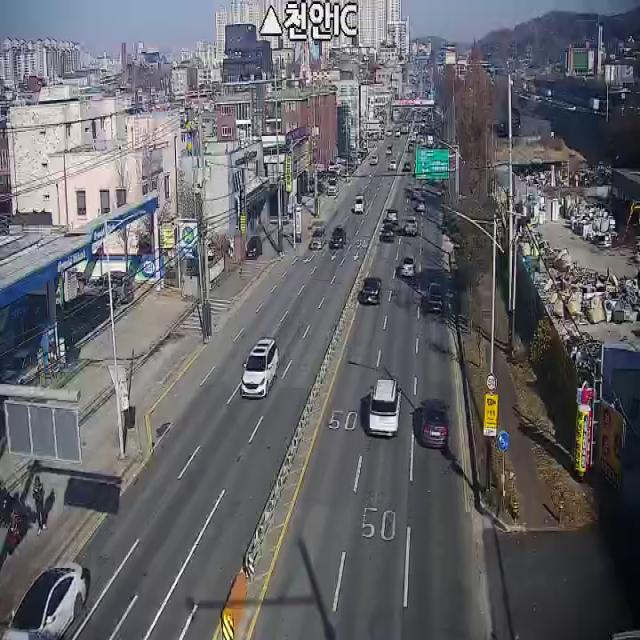Car: (2, 561, 86, 640), (241, 337, 279, 398), (370, 379, 400, 436), (419, 398, 450, 448), (95, 270, 134, 304), (362, 276, 381, 304), (426, 282, 442, 312), (246, 236, 262, 258), (310, 228, 326, 249), (330, 228, 346, 248), (401, 255, 416, 276), (405, 217, 417, 235), (403, 162, 411, 172), (389, 160, 397, 170), (371, 154, 378, 165)
Truck: (354, 195, 366, 214)
